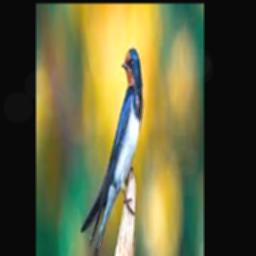Swallow: (81, 48, 142, 256)
